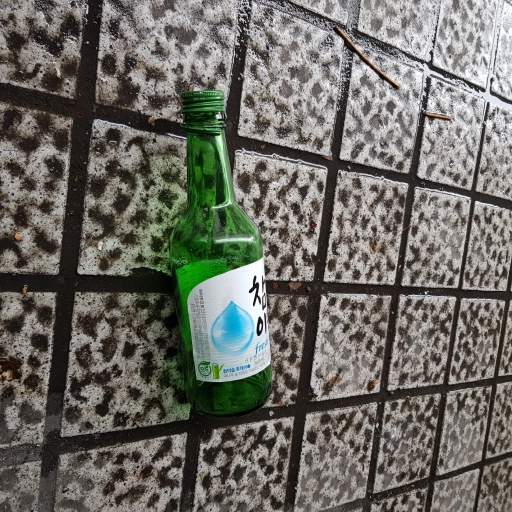Glass_0: (163, 87, 271, 417)
